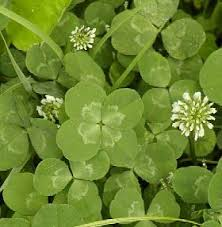4-clover: (56, 80, 143, 168)
